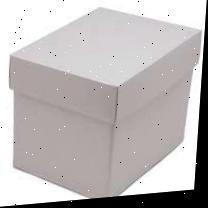cube: (2, 3, 203, 207)
